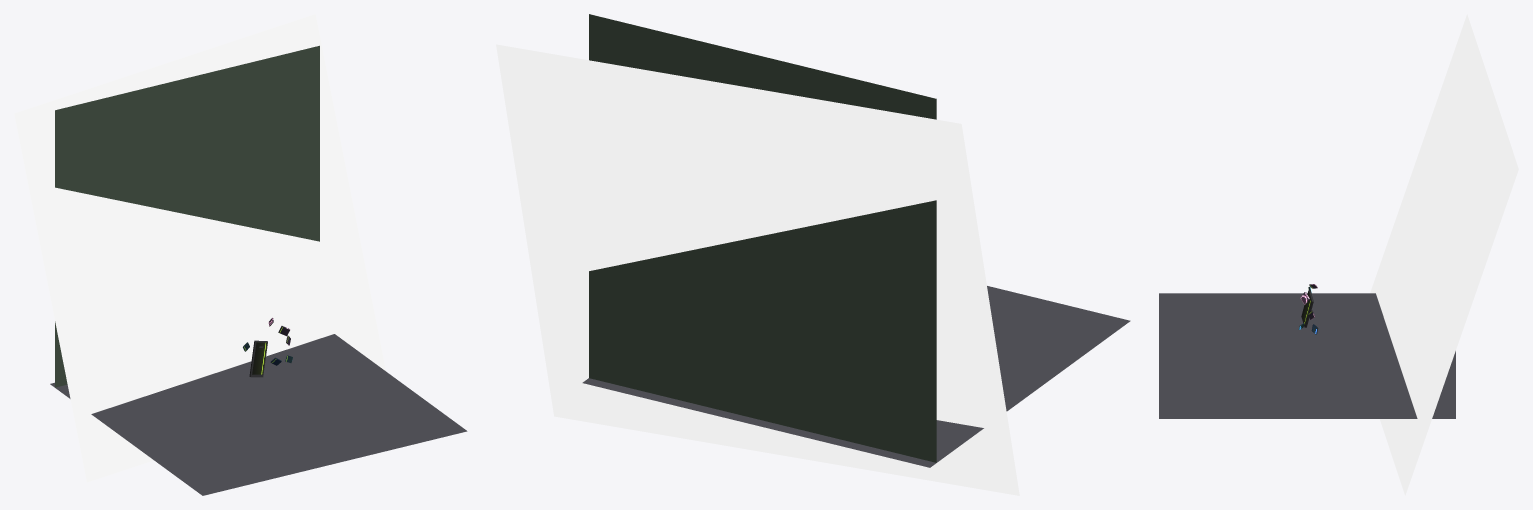
The model's file is phone-social-studio.glb.
3 views of the same model, side by side, from view 1: azimuth 30°, elevation 25°; view 2: azimuth 150°, elevation 25°; view 3: azimuth 270°, elevation 25° (orthographic). The views are drawn at different scales.
Visible parts, largest first — view 1: AuroraBackdrop, StudioWall, StudioFloor; view 2: AuroraBackdrop, StudioWall, StudioFloor; view 3: AuroraBackdrop, StudioFloor.
Part boxes in pixels (x1,y1,x2,y2): AuroraBackdrop: (14,14,385,482); StudioWall: (55,45,319,387); StudioFloor: (50,334,467,495); AuroraBackdrop: (496,44,1019,495); StudioWall: (589,14,936,462); StudioFloor: (582,286,1130,467); AuroraBackdrop: (1370,14,1518,495); StudioFloor: (1159,293,1455,418).
Bounding box in the file's own units: 7.75 × 7.22 × 7.27.
8 materials, 4 textured.
